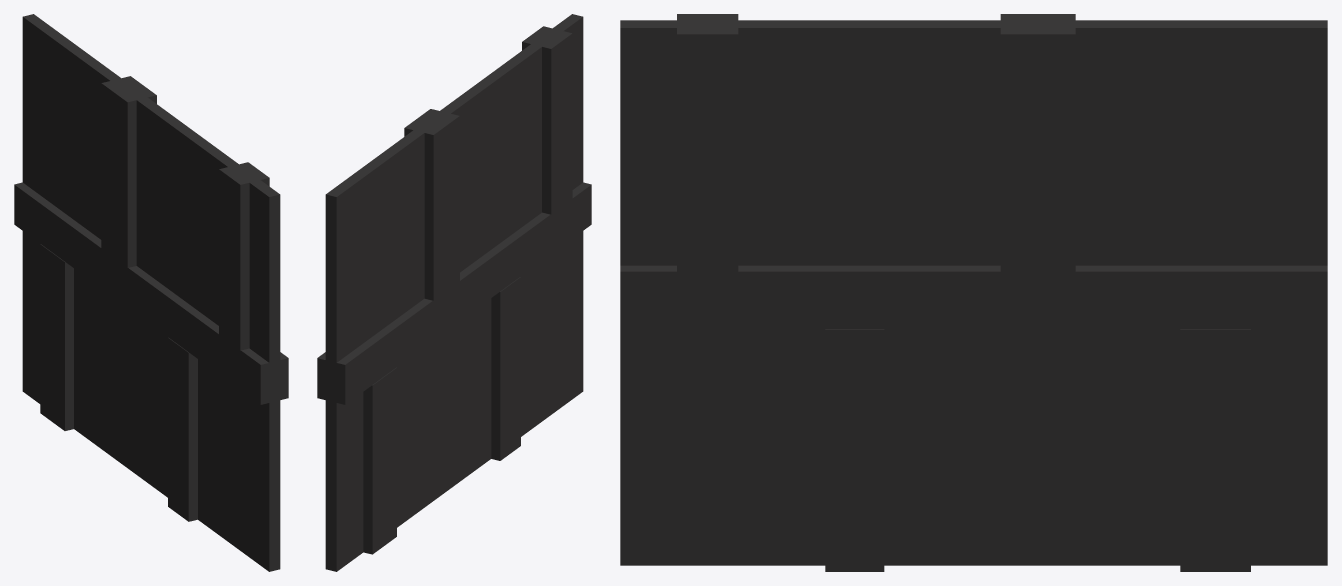
The model's file is drzwi4.obj.
3 renders of one model, left to right at view 1: azimuth 30°, elevation 25°; view 2: azimuth 150°, elevation 25°; view 3: azimuth 270°, elevation 25°, orthographic. The views are drawn at different scales.
Visible parts, largest first — view 1: Drzwi.NR4_Cube.037; view 2: Drzwi.NR4_Cube.037; view 3: Drzwi.NR4_Cube.037.
Boxes of the visible parts, <box> form: Drzwi.NR4_Cube.037: <box>14,14,288,571</box>; Drzwi.NR4_Cube.037: <box>317,14,591,571</box>; Drzwi.NR4_Cube.037: <box>620,14,1327,571</box>.
Size of the model in its own units: 1.06 by 13 by 15.5.
1 material, 1 textured.
